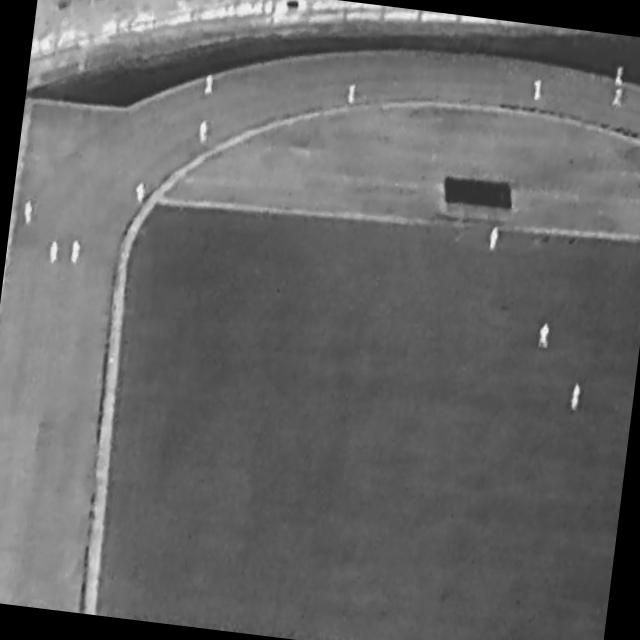person: (569, 383, 582, 412), (69, 240, 83, 266), (23, 199, 36, 225), (539, 323, 552, 349), (531, 79, 544, 103), (49, 240, 60, 266), (199, 122, 211, 145), (135, 183, 147, 205), (489, 228, 500, 251), (613, 88, 625, 108), (205, 74, 215, 97), (615, 65, 625, 87), (348, 82, 358, 104)
